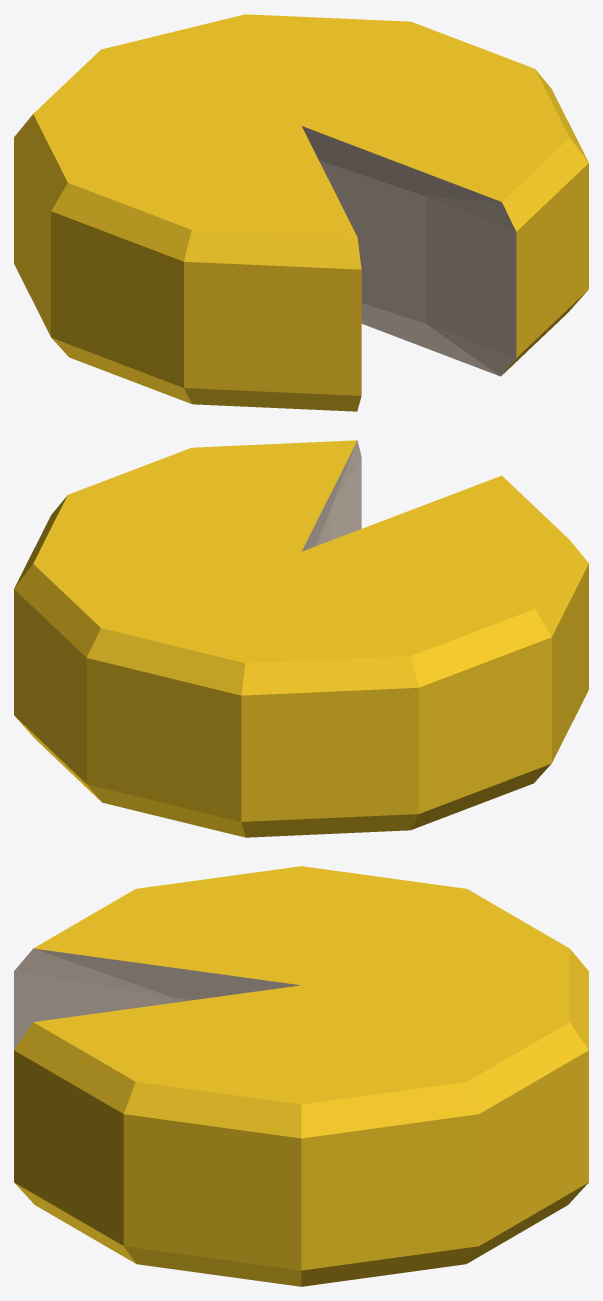
Rendered from cheese-circle.glb.
The picture shows the model from 3 angles, top to bottom: view 1: azimuth 30°, elevation 25°; view 2: azimuth 150°, elevation 25°; view 3: azimuth 270°, elevation 25°; orthographic projection. The views are drawn at different scales.
Parts seen in each view (by area): view 1: cheese-circle; view 2: cheese-circle; view 3: cheese-circle.
Part boxes in pixels (<box>): cheese-circle: <box>14,14,588,411</box>; cheese-circle: <box>14,440,588,837</box>; cheese-circle: <box>14,866,588,1286</box>.
Bounding box in the file's own units: 0.4 × 0.1336 × 0.3804.
1 material, 1 textured.
